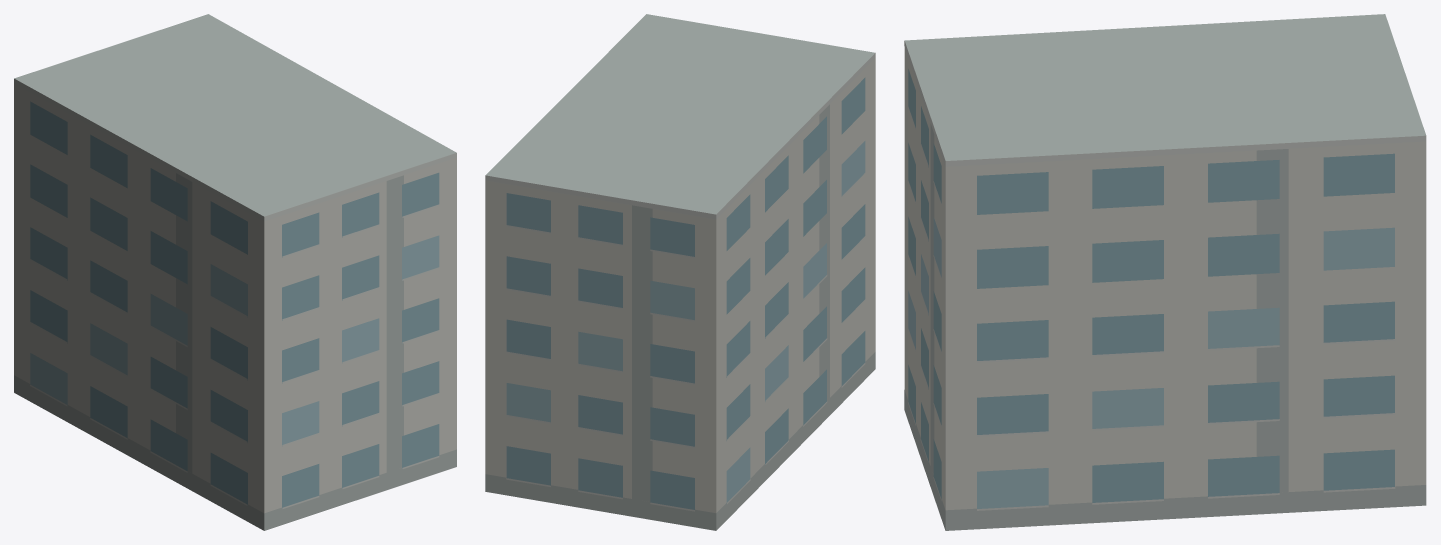
File: survey-upis-32570721.glb
3 renders of one model, left to right at view 1: azimuth 30°, elevation 25°; view 2: azimuth 150°, elevation 25°; view 3: azimuth 270°, elevation 25°, orthographic. The views are drawn at different scales.
Visible parts, largest first — view 1: survey-upis-32570721.tmp; view 2: survey-upis-32570721.tmp; view 3: survey-upis-32570721.tmp.
Part boxes in pixels (<box>): survey-upis-32570721.tmp: <box>14,14,456,530</box>; survey-upis-32570721.tmp: <box>485,14,875,530</box>; survey-upis-32570721.tmp: <box>904,14,1426,530</box>.
Size of the model in its own units: 13.01 by 15.25 by 19.51.
